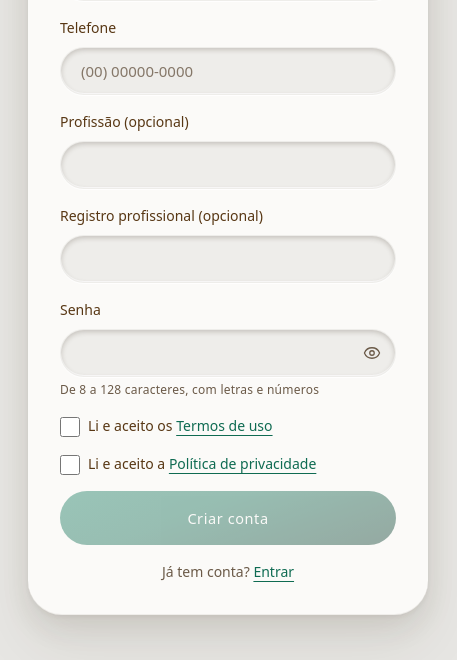
Test: SignupPage › keeps submit disabled until both checkboxes are checked and links the legal pages
The width and height of the screenshot is (457, 660).
(page scrolled)
Expected: the button "Criar conta" is disabled, [60,491,396,545]
Click the checkbox labelled "Li e aceito os Termos de uso": (70,427) [60,417,80,437]
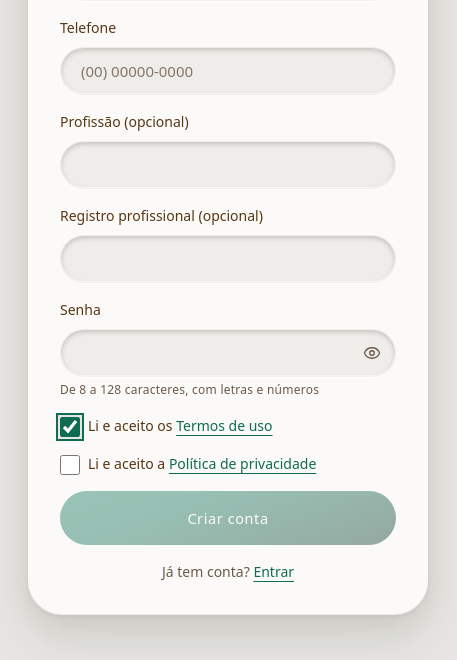
Expected: the button "Criar conta" is disabled, [60,491,396,545]
Click the checkbox labelled "Li e aceito a Política de privacidade": (70,465) [60,455,80,475]
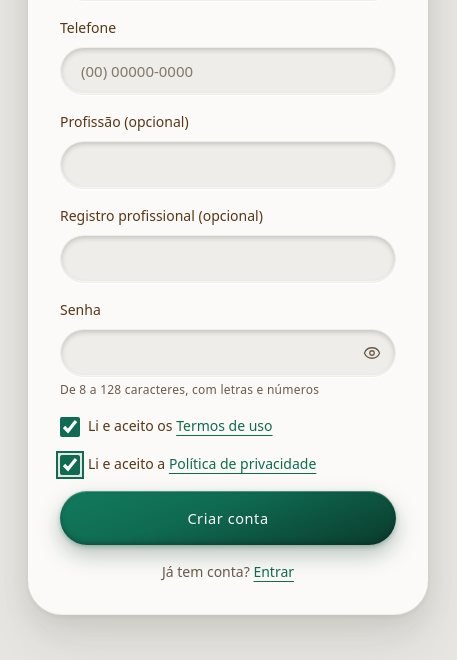
Result: the button "Criar conta" is enabled at [60,491,396,545]
